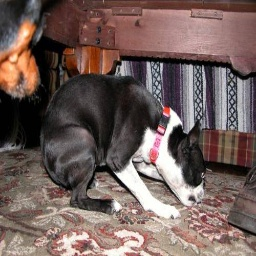dog: (37, 70, 213, 222)
